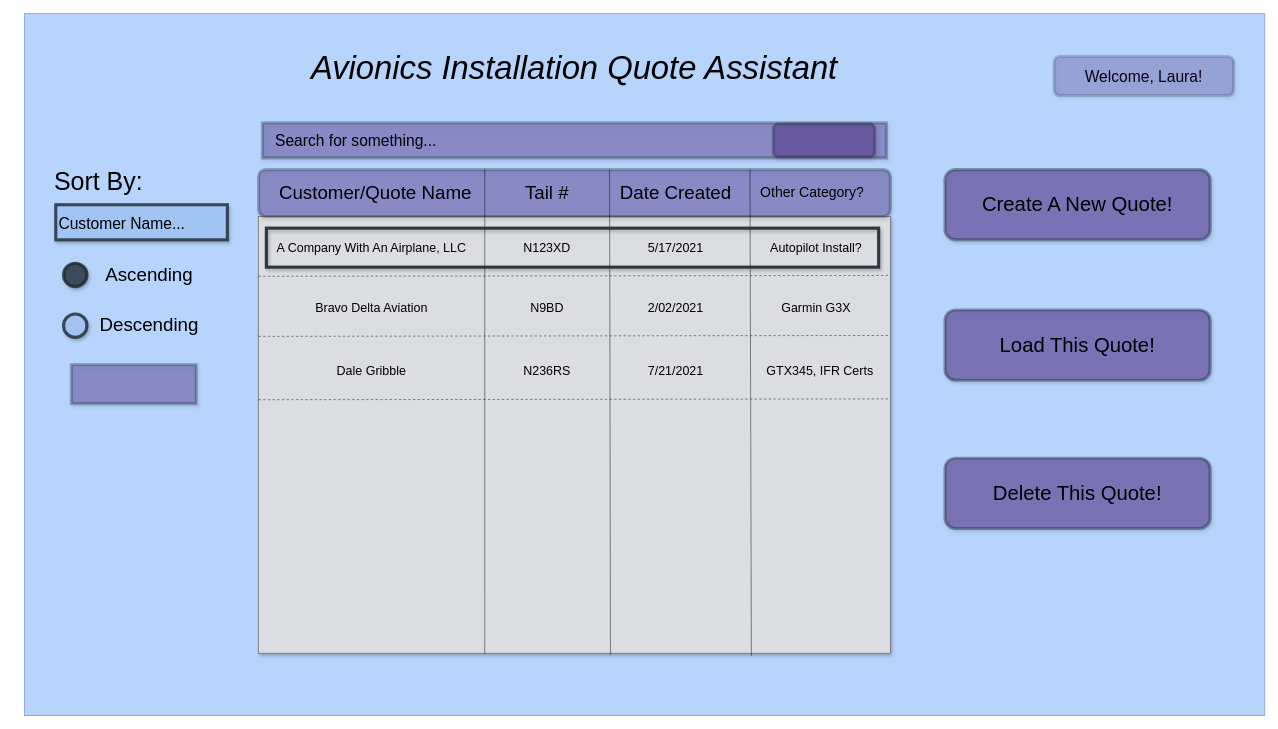
Image size: 1278x729. Some labels were removed from this diagram. Here are the shapes that lost their labels. From the top down, the centre of each, then its label:
At (824,141): "SEARCH".
At (134,385): "Sort!".
